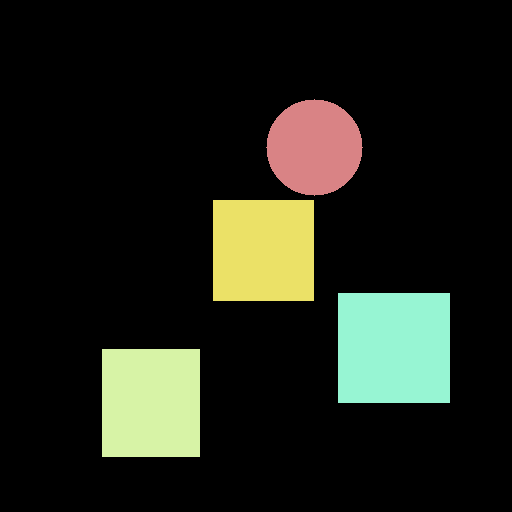circle: (266, 99, 362, 195)
square: (338, 293, 449, 402), (102, 349, 199, 456), (213, 200, 313, 300)
